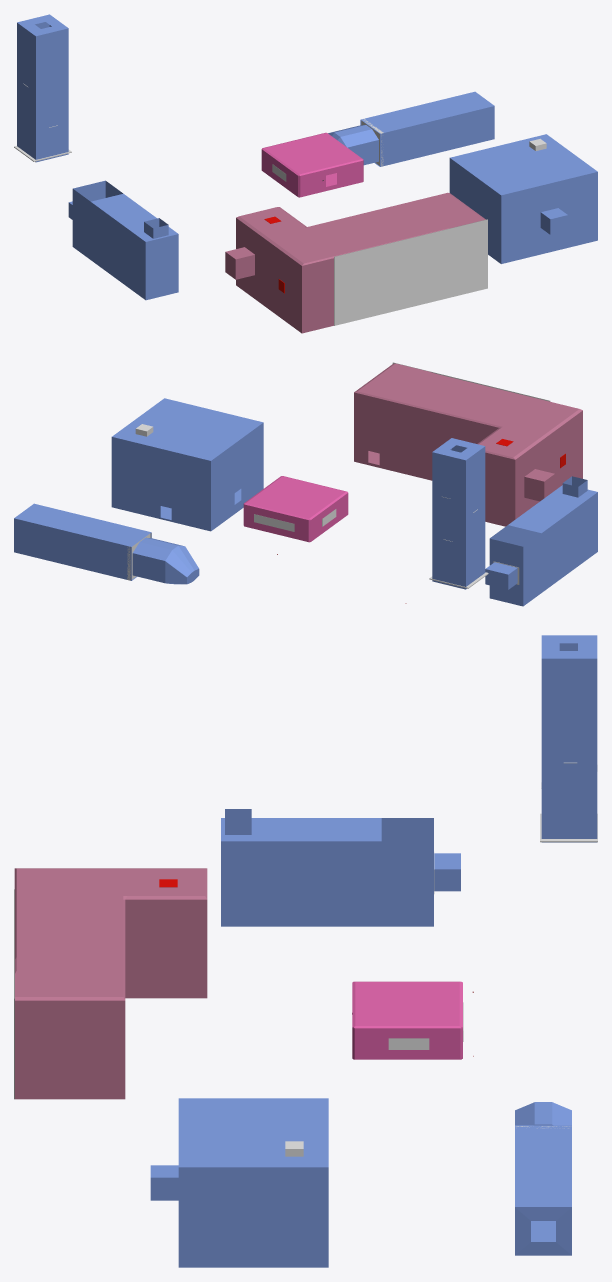
File: space room 987tren1.fbx
3 views of the same model, one above another, from view 1: azimuth 30°, elevation 25°; view 2: azimuth 150°, elevation 25°; view 3: azimuth 270°, elevation 25° (orthographic). The views are drawn at different scales.
Visible parts, largest first — view 1: door.001, Cube.002, Room 1.003, room 3.001, room 3.002, Cube.007, Cube.053, Cube.052; view 2: door.001, Cube.002, room 3.001, room 3.002, Cube.007, Cube.053, Cube.052, Room 1.001; view 3: door.001, Cube.002, room 3.001, room 3.002, Cube.053, Cube.007, Cube.052.
Part boxes in pixels (bbox=[...]): door.001: bbox=[225, 192, 485, 333]; Cube.002: bbox=[449, 134, 597, 263]; Room 1.003: bbox=[334, 219, 487, 325]; room 3.001: bbox=[68, 180, 178, 300]; room 3.002: bbox=[17, 14, 68, 162]; Cube.007: bbox=[360, 91, 494, 166]; Cube.053: bbox=[261, 132, 363, 197]; Cube.052: bbox=[328, 125, 378, 165]; door.001: bbox=[354, 363, 582, 526]; Cube.002: bbox=[111, 398, 263, 531]; room 3.001: bbox=[485, 476, 597, 606]; room 3.002: bbox=[432, 438, 485, 589]; Cube.007: bbox=[14, 503, 151, 580]; Cube.053: bbox=[243, 476, 348, 542]; Cube.052: bbox=[132, 537, 199, 584]; Room 1.001: bbox=[254, 509, 336, 531]; door.001: bbox=[14, 868, 207, 1099]; Cube.002: bbox=[150, 1098, 328, 1267]; room 3.001: bbox=[221, 809, 460, 926]; room 3.002: bbox=[541, 635, 597, 842]; Cube.053: bbox=[352, 981, 462, 1059]; Cube.007: bbox=[515, 1125, 571, 1255]; Cube.052: bbox=[515, 1102, 571, 1125].
Size of the model in its own units: 16517 by 7718 by 12655.
